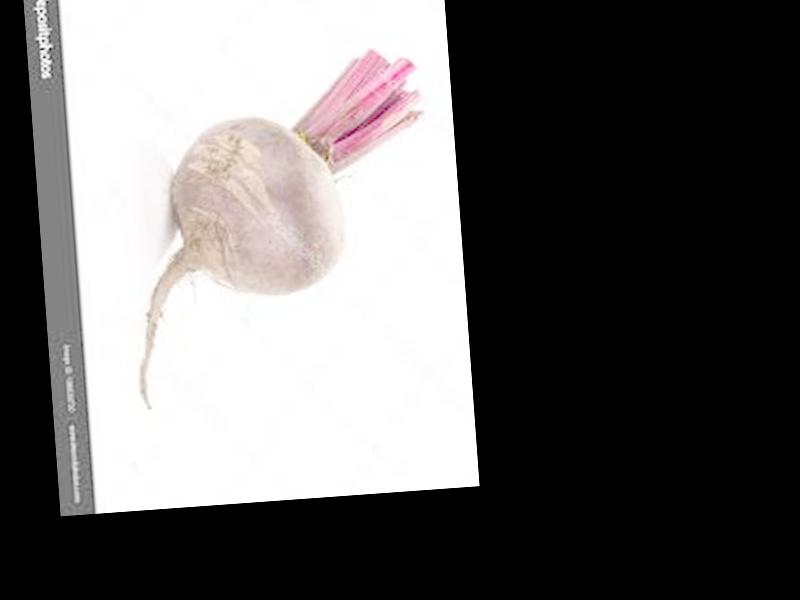Beet: (118, 49, 441, 410)
